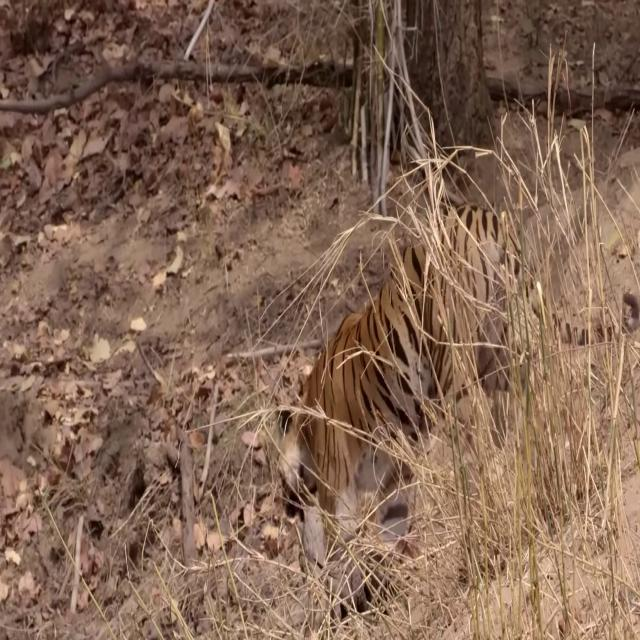tiger: (274, 201, 640, 610)
